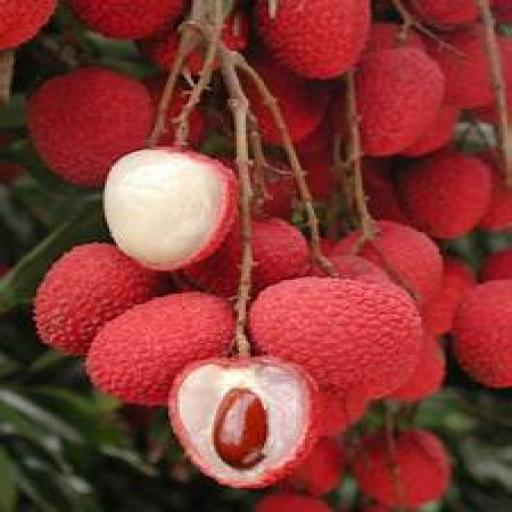lychee: (251, 277, 420, 397), (169, 357, 318, 488), (87, 292, 234, 406), (105, 147, 236, 269), (28, 67, 154, 186), (35, 245, 161, 354), (355, 48, 443, 157), (333, 221, 443, 303), (255, 0, 370, 78), (399, 151, 491, 238), (353, 431, 450, 508), (251, 55, 329, 141), (453, 280, 511, 387), (426, 24, 493, 109), (69, 0, 186, 39), (253, 219, 309, 293), (421, 258, 475, 334), (390, 333, 446, 402), (285, 437, 345, 496), (401, 105, 459, 157), (362, 159, 409, 223), (0, 0, 56, 51), (478, 156, 511, 232), (319, 390, 368, 436), (137, 24, 179, 69), (408, 0, 477, 27), (365, 23, 425, 54), (328, 255, 391, 283), (160, 84, 188, 145), (255, 492, 332, 511), (481, 250, 511, 281)
